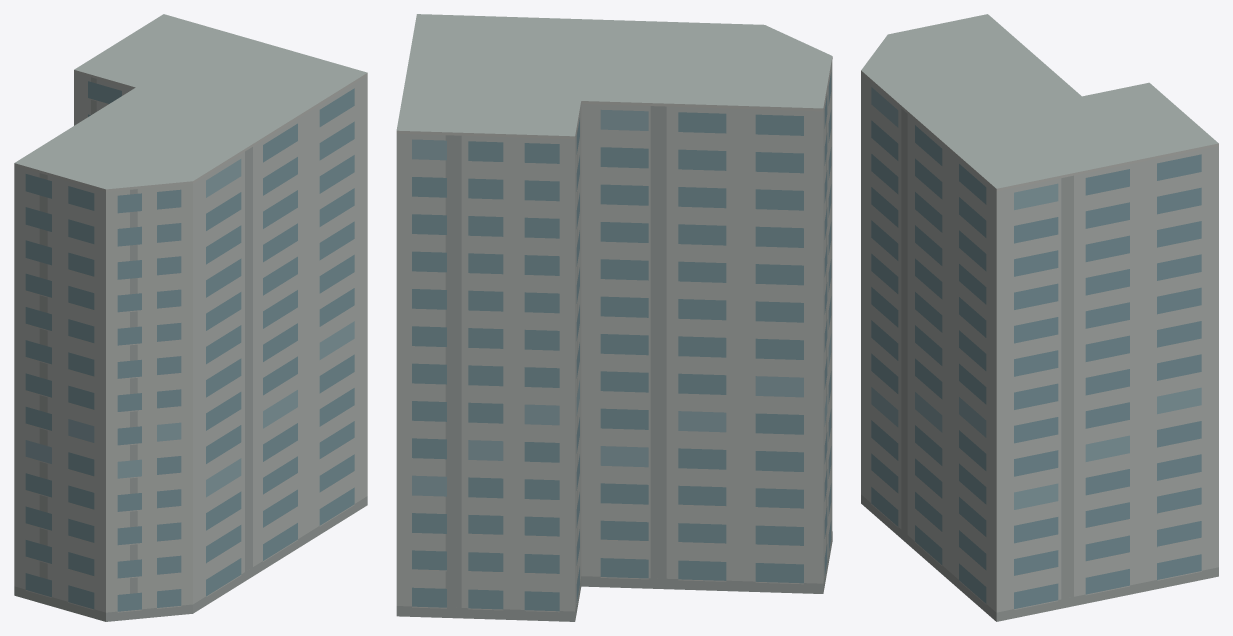
Rendered from residential-a1a259b5-79c0-40eb-8ff3-733c70e8f52c.glb.
3 views of the same model, side by side, from view 1: azimuth 30°, elevation 25°; view 2: azimuth 150°, elevation 25°; view 3: azimuth 270°, elevation 25° (orthographic). The views are drawn at different scales.
Visible parts, largest first — view 1: residential-a1a259b5-79c0-40eb-8ff3-733c70e8f52c.tmp; view 2: residential-a1a259b5-79c0-40eb-8ff3-733c70e8f52c.tmp; view 3: residential-a1a259b5-79c0-40eb-8ff3-733c70e8f52c.tmp.
Boxes of the visible parts, bbox=[...] form: residential-a1a259b5-79c0-40eb-8ff3-733c70e8f52c.tmp: bbox=[14, 14, 367, 621]; residential-a1a259b5-79c0-40eb-8ff3-733c70e8f52c.tmp: bbox=[396, 14, 832, 621]; residential-a1a259b5-79c0-40eb-8ff3-733c70e8f52c.tmp: bbox=[861, 14, 1218, 621].
Bounding box in the file's own units: 34.63 × 40 × 29.96.
